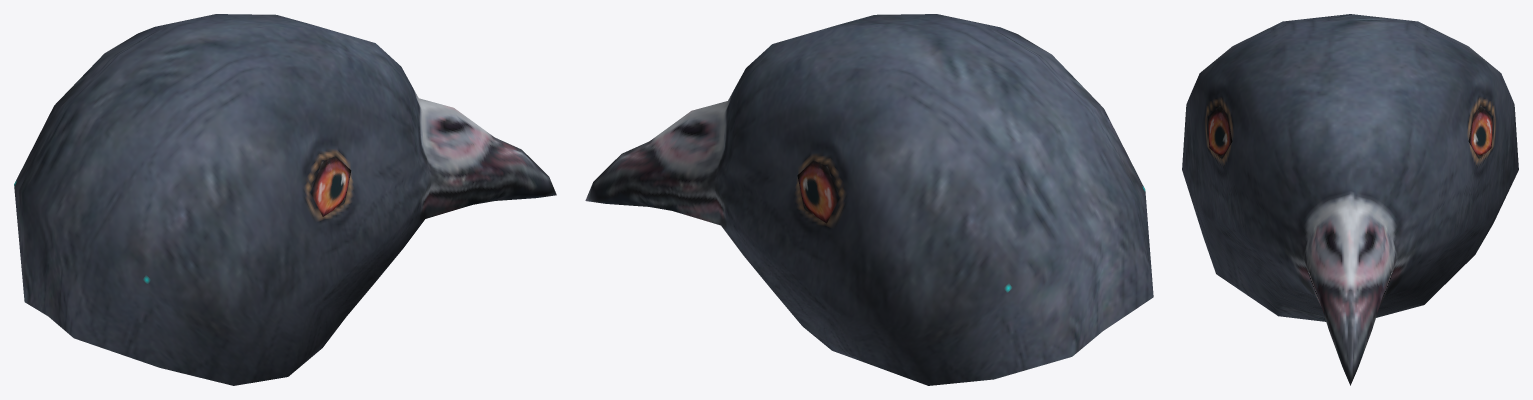
File: head.fbx
3 renders of one model, left to right at view 1: azimuth 30°, elevation 25°; view 2: azimuth 150°, elevation 25°; view 3: azimuth 270°, elevation 25°, orthographic. The views are drawn at different scales.
Parts seen in each view (by area): view 1: pigeon_01b; view 2: pigeon_01b; view 3: pigeon_01b.
Part boxes in pixels (x1=…): pigeon_01b: x1=14, y1=14, x2=556, y2=385; pigeon_01b: x1=585, y1=14, x2=1153, y2=385; pigeon_01b: x1=1182, y1=14, x2=1518, y2=385.
Bounding box in the file's own units: 1411 × 784 × 884.
